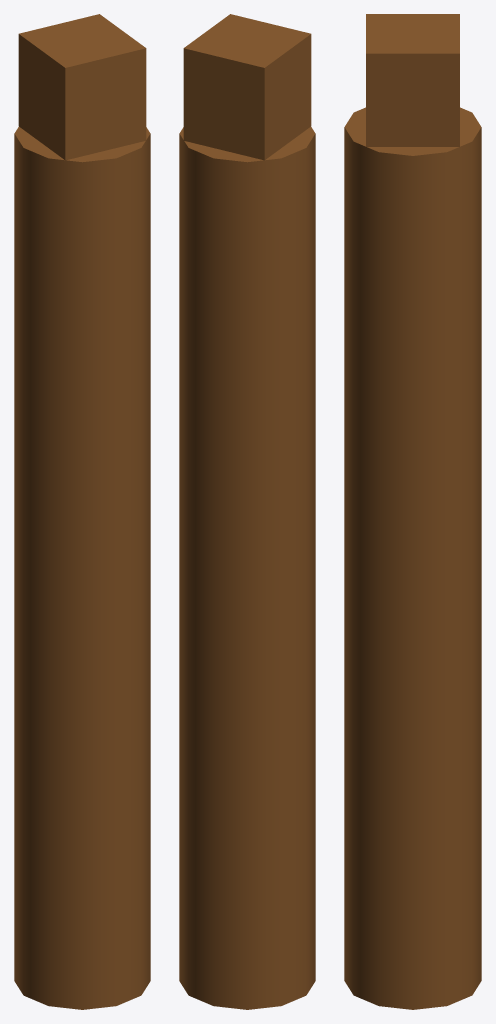
The model's file is armFrontLeft.glb.
The picture shows the model from 3 angles, left to right: view 1: azimuth 30°, elevation 25°; view 2: azimuth 150°, elevation 25°; view 3: azimuth 270°, elevation 25°; orthographic projection.
Size of the model in its own units: 0.08 by 0.61 by 0.08.
